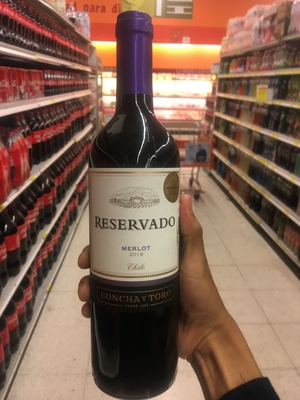reservado merlot: (73, 17, 191, 400)
